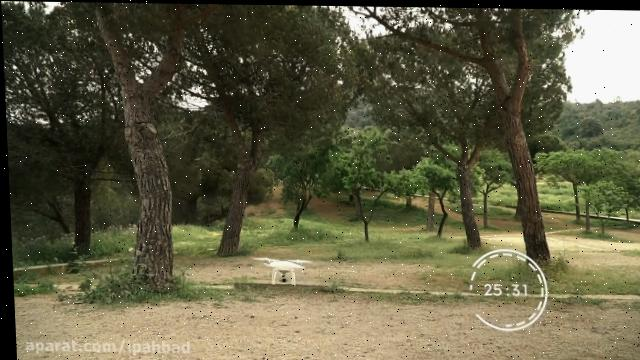drone: (248, 252, 310, 286)
